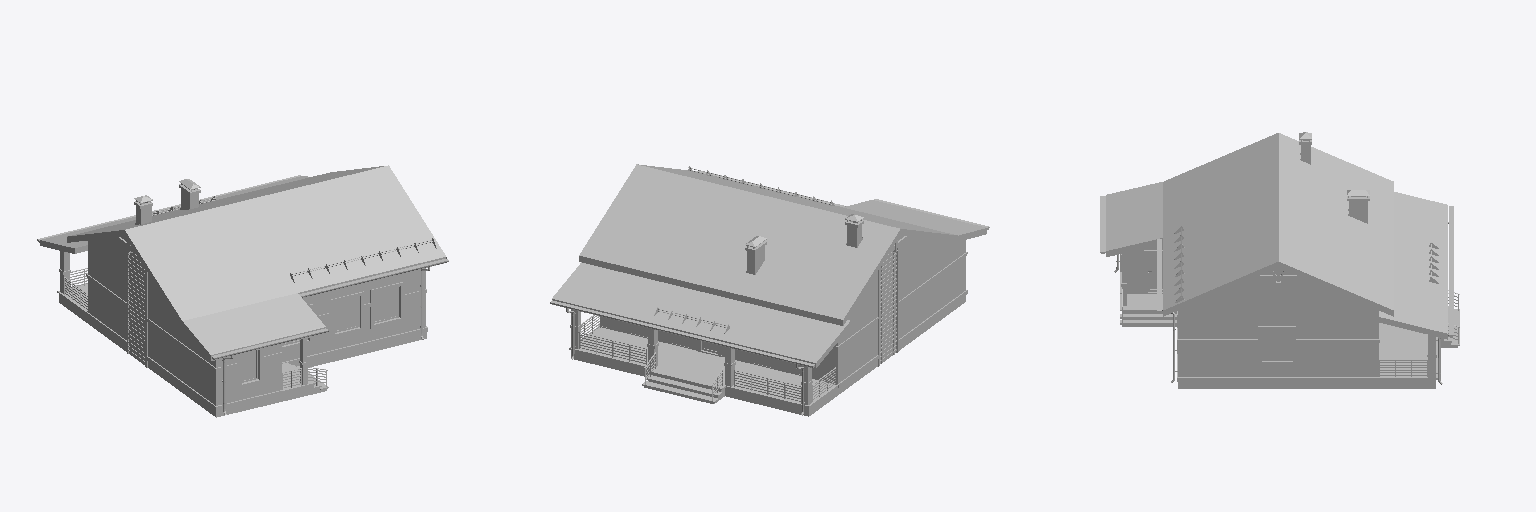
File: Cottage_FREE2.obj
3 renders of one model, left to right at view 1: azimuth 30°, elevation 25°; view 2: azimuth 150°, elevation 25°; view 3: azimuth 270°, elevation 25°, orthographic.
Visible parts, largest first — view 1: Cottage_FREE:Mesh; view 2: Cottage_FREE:Mesh; view 3: Cottage_FREE:Mesh.
Part boxes in pixels (x1,y1,x2,y2): Cottage_FREE:Mesh: (37, 165, 448, 417); Cottage_FREE:Mesh: (550, 164, 989, 416); Cottage_FREE:Mesh: (1100, 132, 1459, 388).
Size of the model in its own units: 12.44 by 6.75 by 14.65.